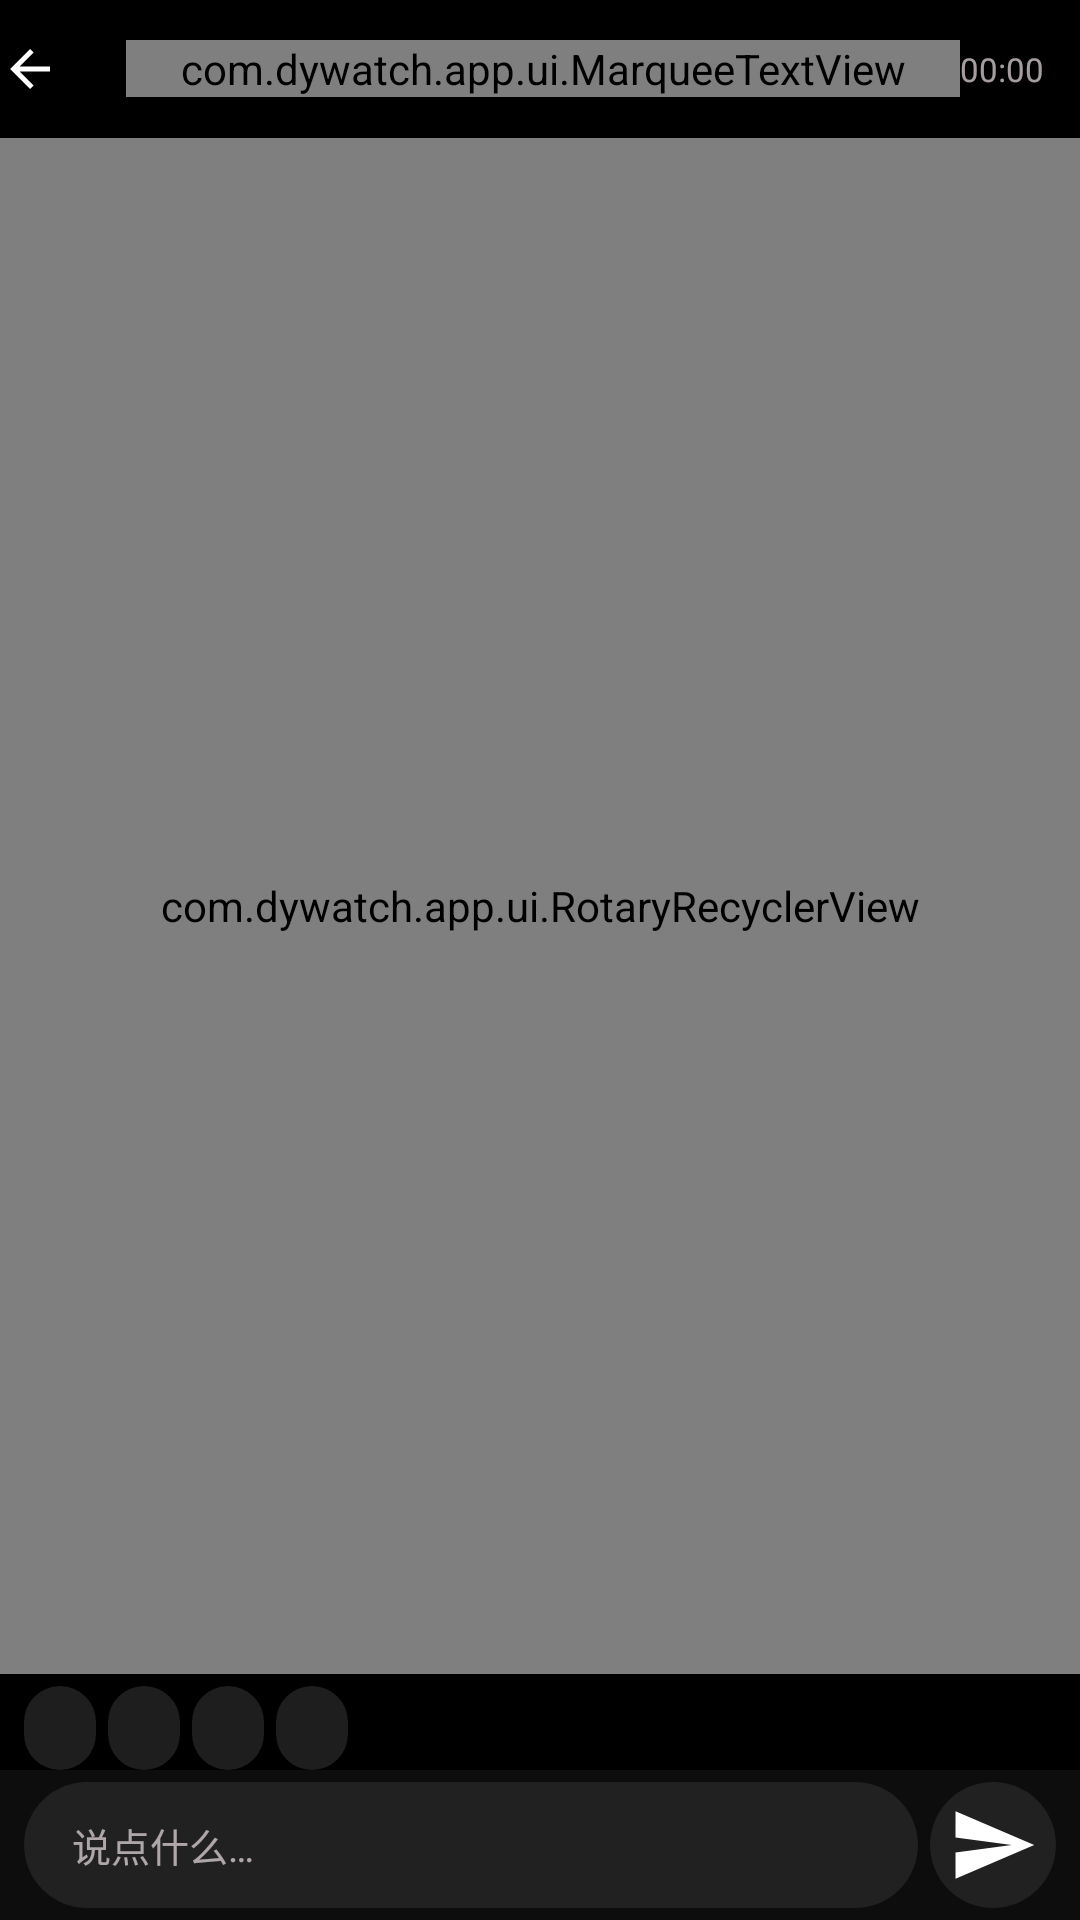

Icons on this 1080 × 1920 Android screen, each with its box as (x1, y1, x2, y2):
发送评论: (930, 1782, 1056, 1908)
